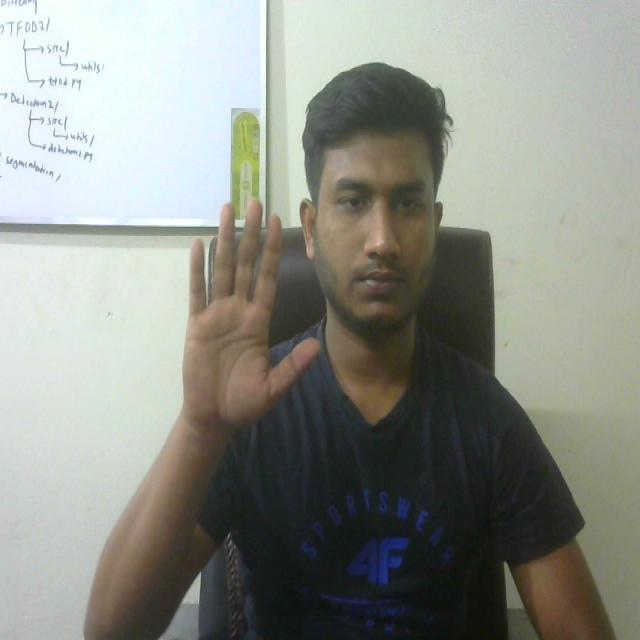Hello: (170, 193, 332, 452)
